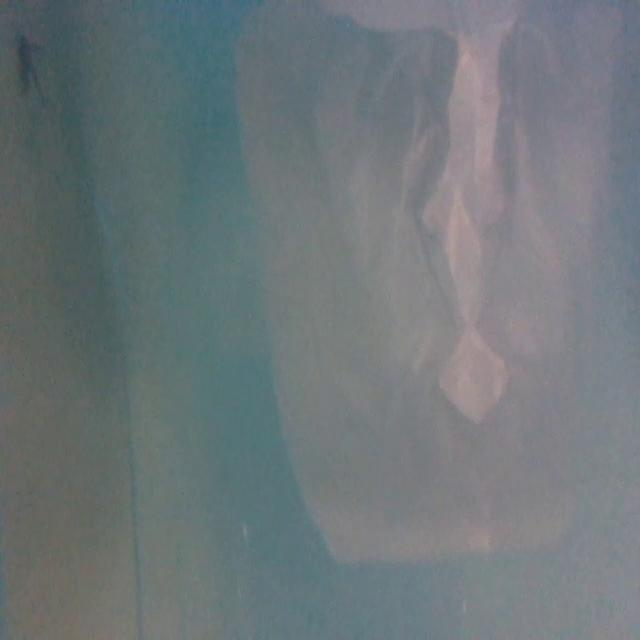plastic bags: (258, 0, 640, 569)
